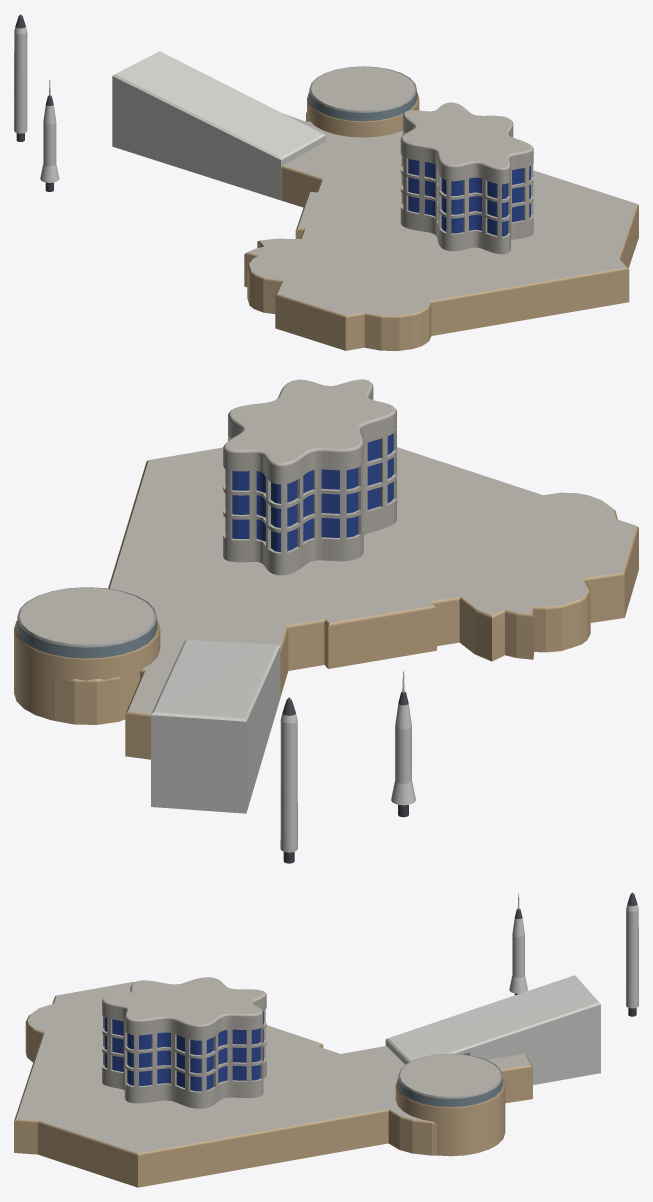
Rendered from detail.glb.
3 renders of one model, top to bottom at view 1: azimuth 30°, elevation 25°; view 2: azimuth 150°, elevation 25°; view 3: azimuth 270°, elevation 25°, orthographic. The views are drawn at different scales.
Visible parts, largest first — view 1: new-york-hall-of-science; view 2: new-york-hall-of-science; view 3: new-york-hall-of-science.
Part boxes in pixels (x1,y1,x2,y2): new-york-hall-of-science: (14, 14, 638, 350); new-york-hall-of-science: (14, 379, 638, 863); new-york-hall-of-science: (14, 892, 638, 1187).
Size of the model in its own units: 111 by 33.2 by 153.
